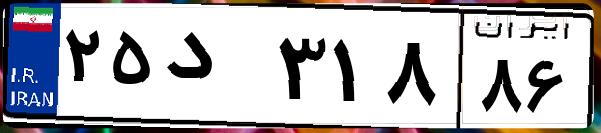1: (330, 28, 385, 110)
2: (57, 26, 110, 100)
3: (270, 28, 330, 110)
5: (110, 28, 158, 98)
6: (525, 38, 570, 115)
8: (385, 28, 445, 110), (475, 38, 525, 113)
د: (158, 20, 270, 120)
